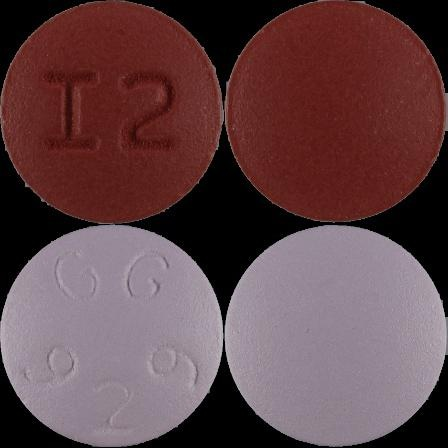63187-408: (0, 0, 224, 224)
